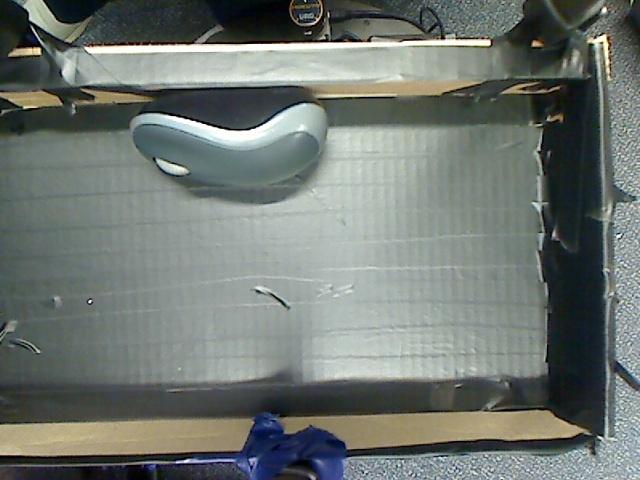mouse: (118, 83, 350, 225)
